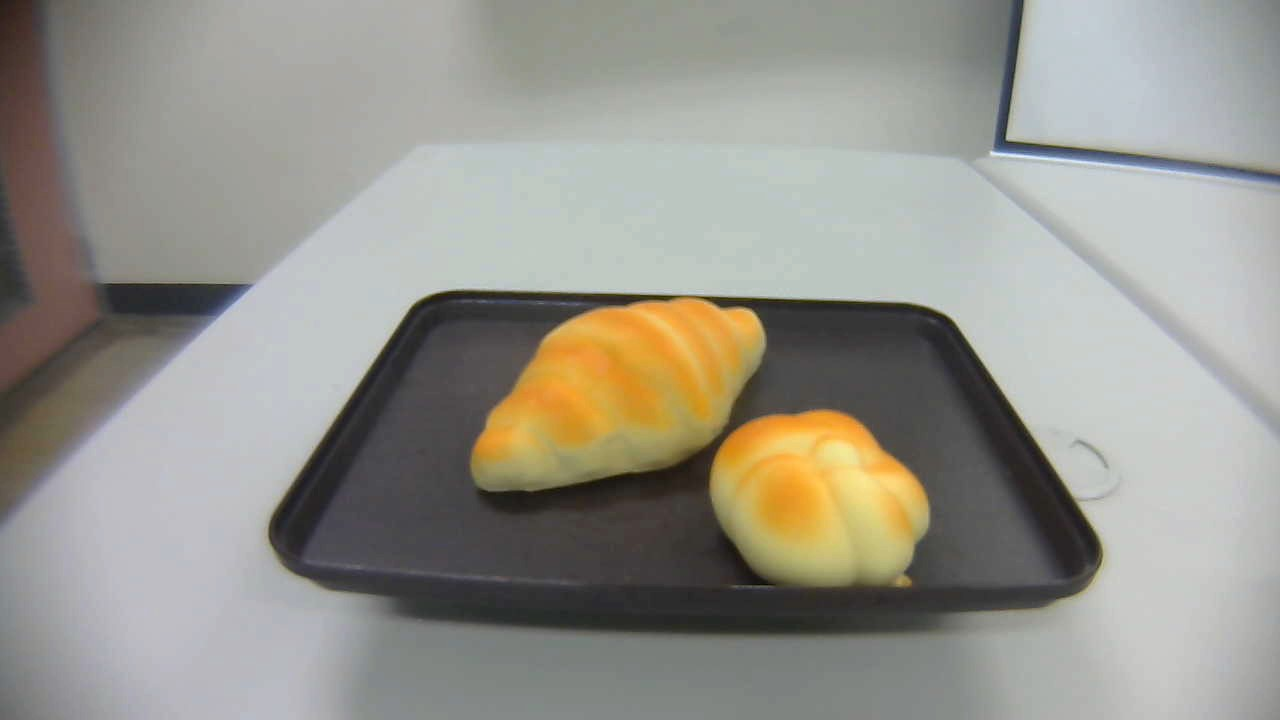croissant: (470, 297, 769, 494)
twist bread: (707, 408, 930, 589)
